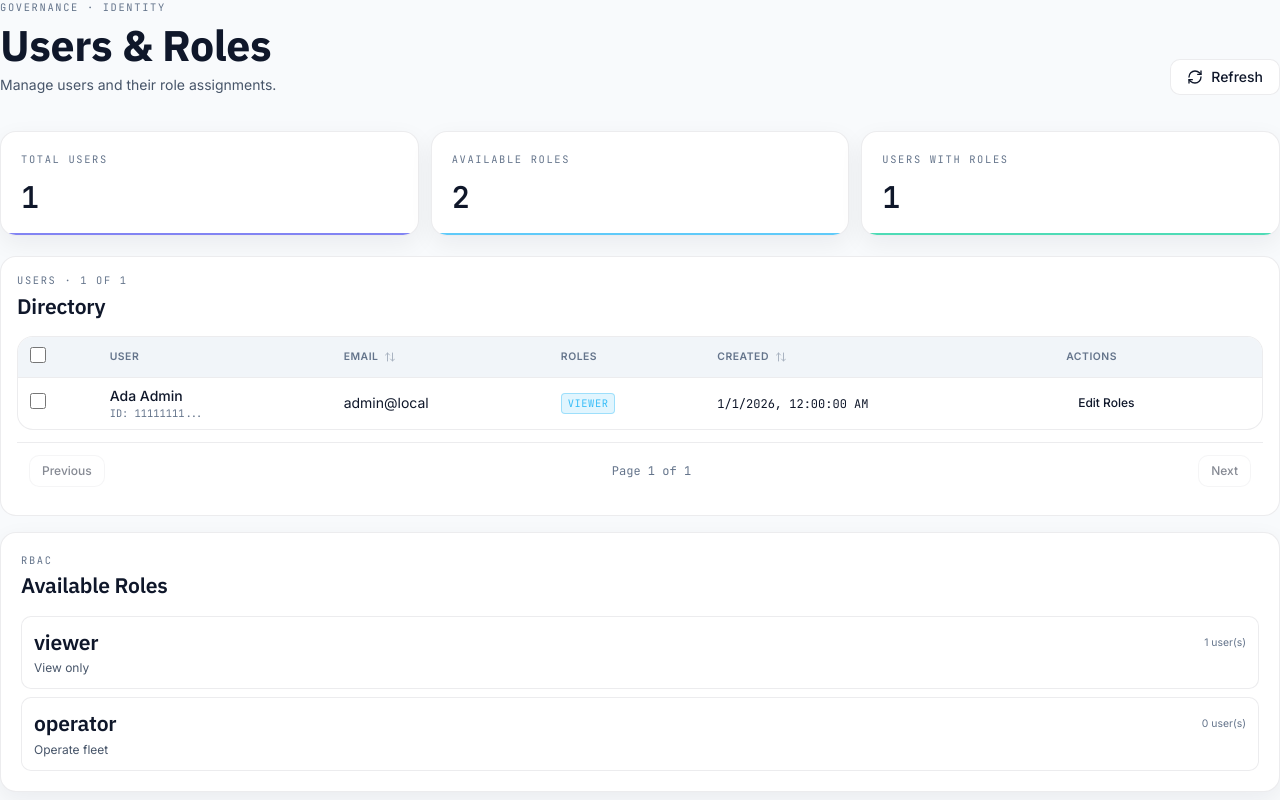
Test: Users › keeps failed bulk role updates visible in the modal
Click the checkbox named "select ada admin". click: (38, 401)
box: [30,393,46,409]
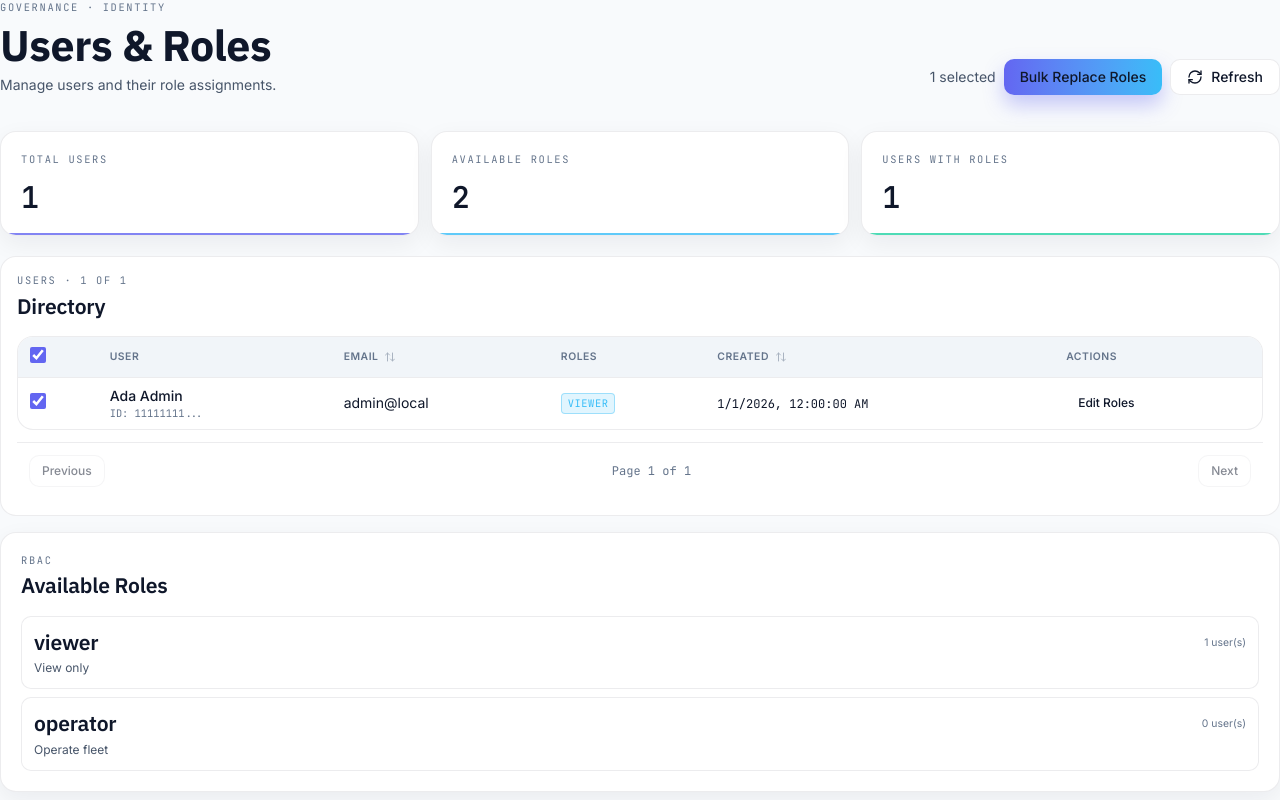
Click the button "Bulk Replace Roles". click: (1083, 77)
box: [1004,59,1162,95]
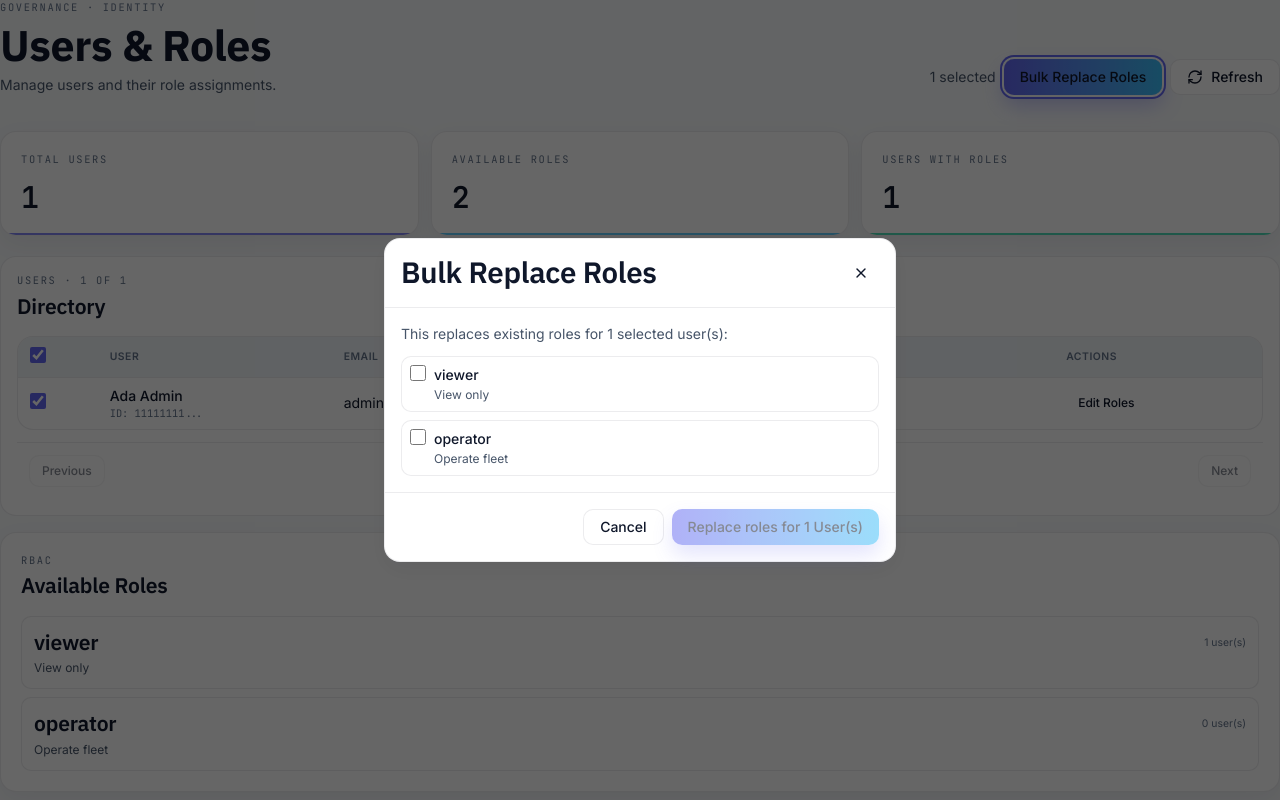
Click the checkbox labelled "operator Operate fleet". click: (418, 437)
box: [410,429,426,445]
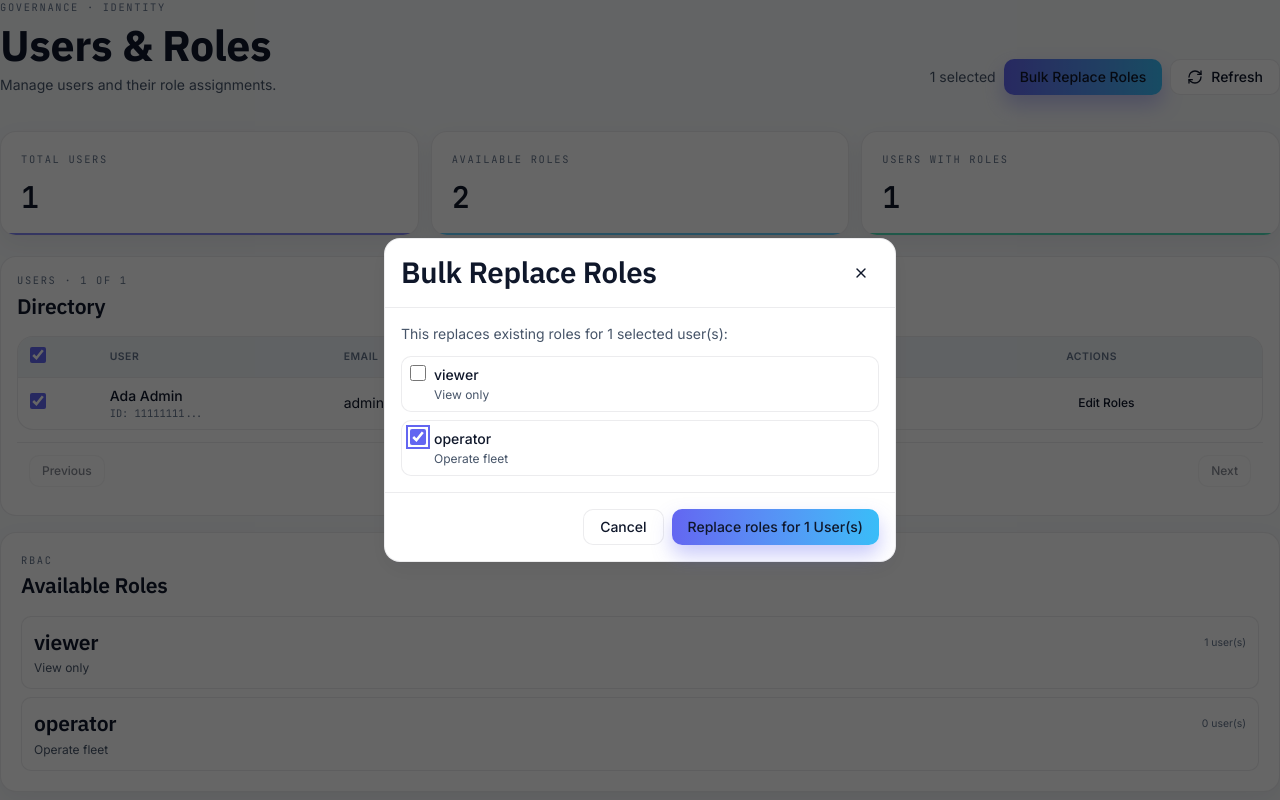
Click the button "Replace roles for 1 User(s)". click: (775, 527)
box: [672,509,879,545]
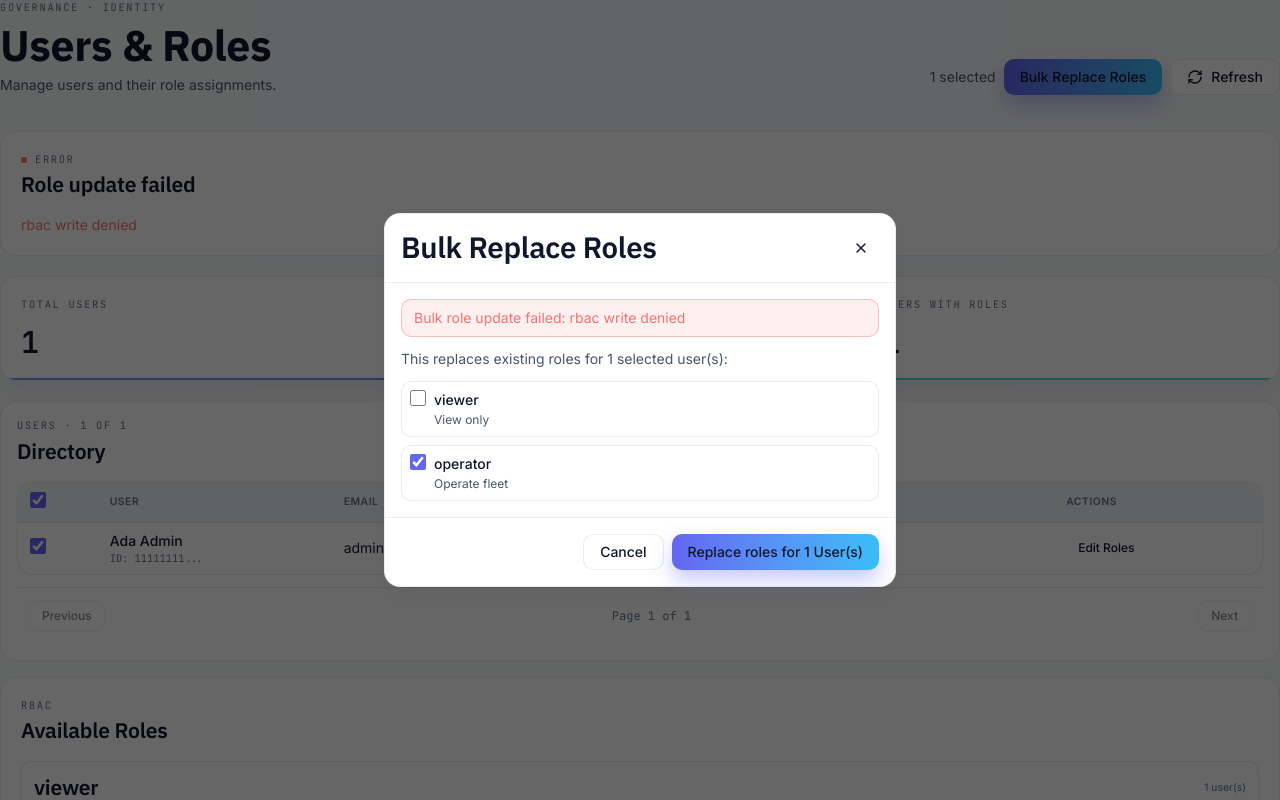
Check: the dialog "Bulk Replace Roles" is shown
Check: the message reads "Bulk role update failed: rbac write denied", box [401,299,879,337]
